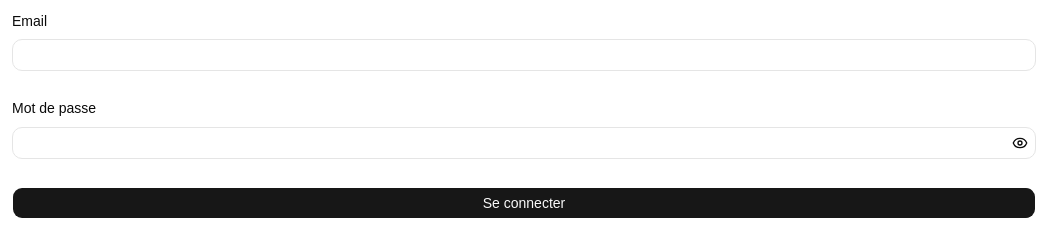
LoginForm › refuses an invalid email without submitting
The width and height of the screenshot is (1048, 235).
Type "ada" into the field labelled "Email" at (524, 55), box [12,39,1036,71]
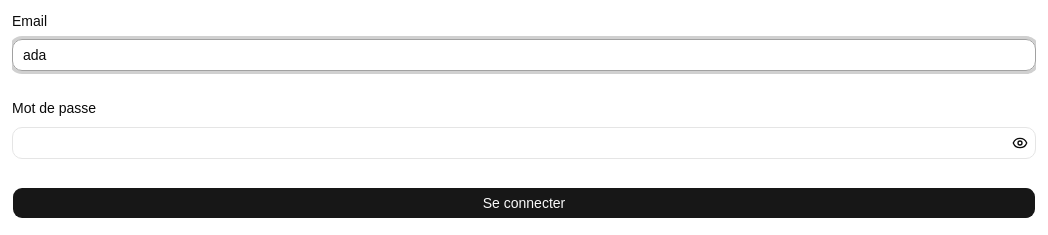
Type "correct horse" into the password field labelled "Mot de passe" at (524, 142), box [12,126,1036,158]
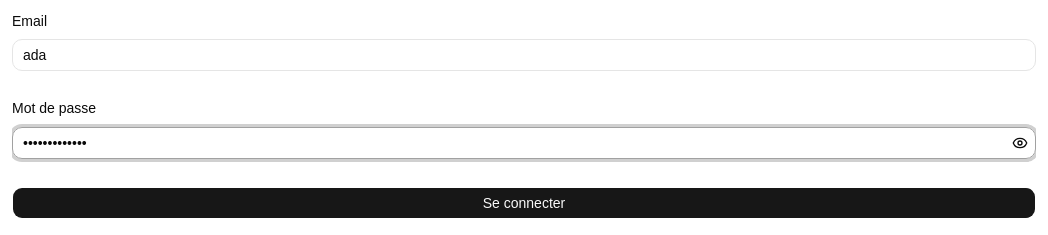
Click the button "Se connecter" at (524, 202), box [12,186,1036,218]
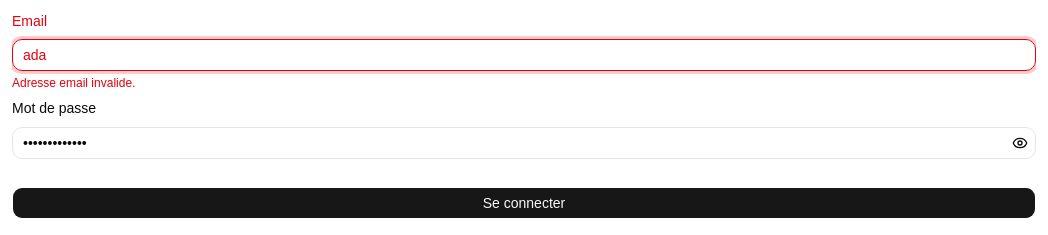
Now the text "Adresse email invalide." is shown, box [12,76,135,90]
